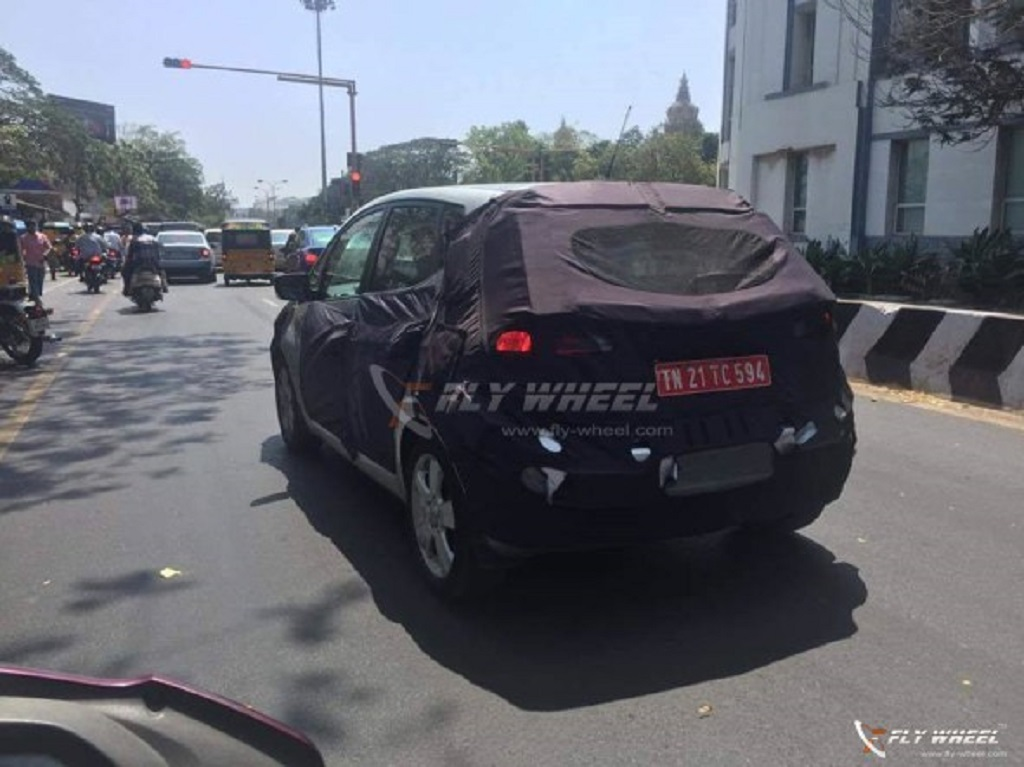number_plate: (648, 351, 776, 397)
